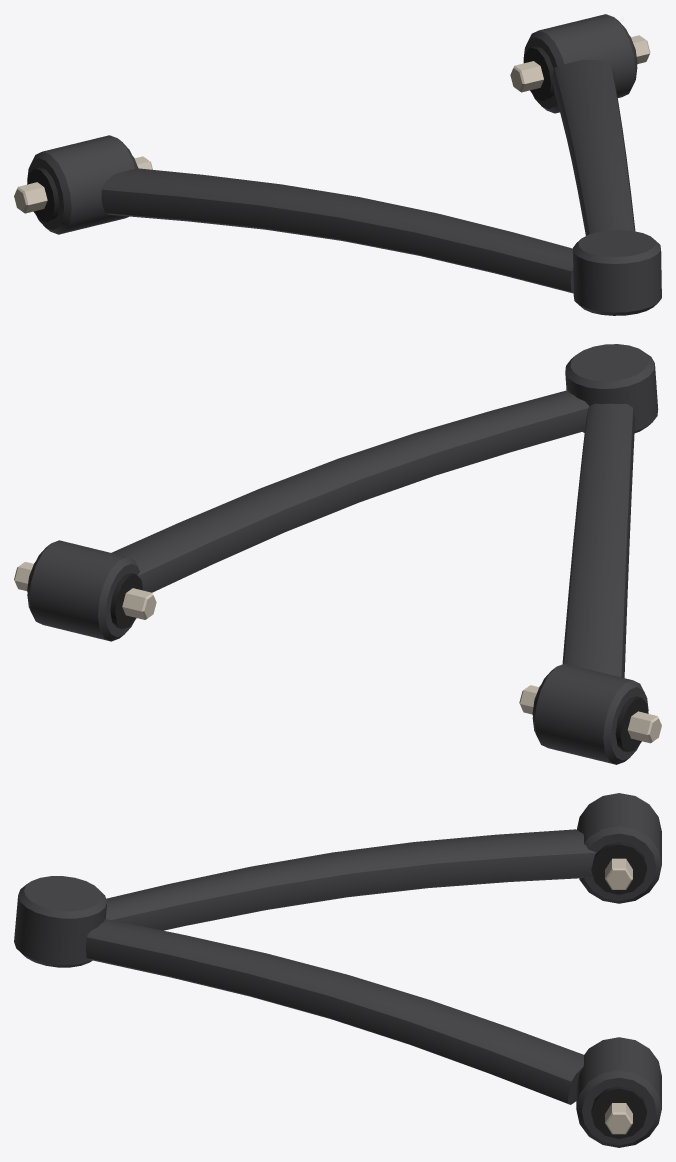
The model's file is SM_Susp_RR_UpperArm.fbx.
3 renders of one model, top to bottom at view 1: azimuth 30°, elevation 25°; view 2: azimuth 150°, elevation 25°; view 3: azimuth 270°, elevation 25°, orthographic.
Parts seen in each view (by area): view 1: Export_Susp_RR_UpperArm; view 2: Export_Susp_RR_UpperArm; view 3: Export_Susp_RR_UpperArm.
Boxes of the visible parts, box(x1,y1,x2,y2) form: Export_Susp_RR_UpperArm: box(14, 14, 661, 315); Export_Susp_RR_UpperArm: box(14, 344, 661, 764); Export_Susp_RR_UpperArm: box(14, 793, 661, 1147).
Size of the model in its own units: 0.3477 by 0.39 by 0.0729.
